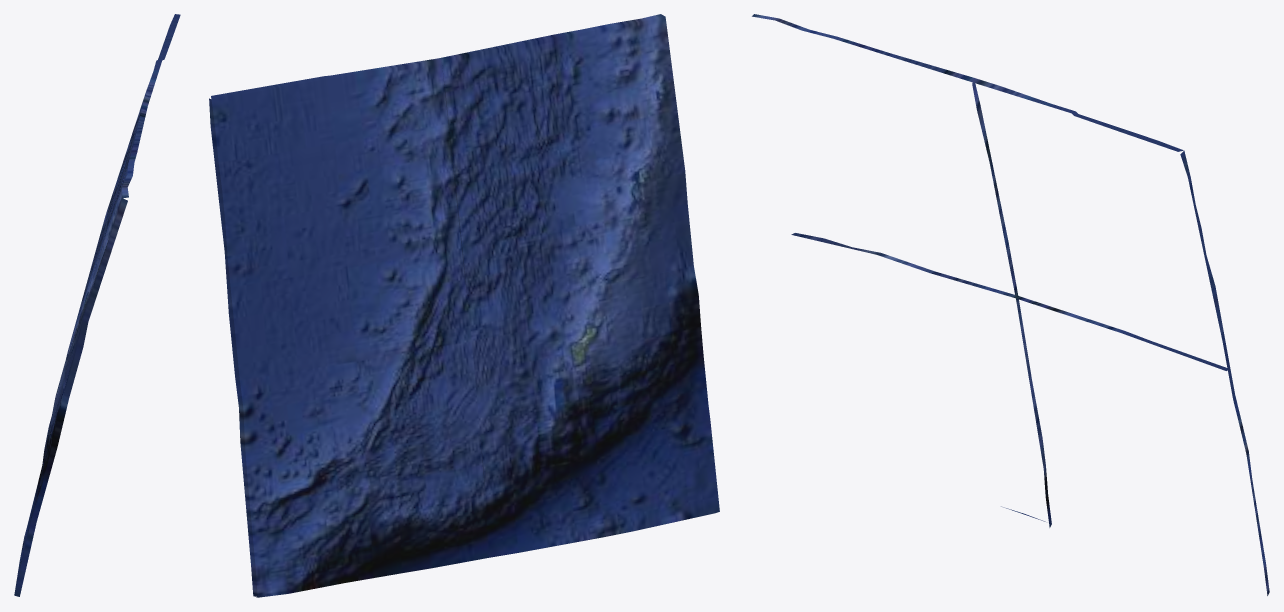
3 renders of one model, left to right at view 1: azimuth 30°, elevation 25°; view 2: azimuth 150°, elevation 25°; view 3: azimuth 270°, elevation 25°, orthographic. The views are drawn at different scales.
Size of the model in its own units: 491440 by 612742 by 585209.
Materials: 1 (1 with a texture image).
